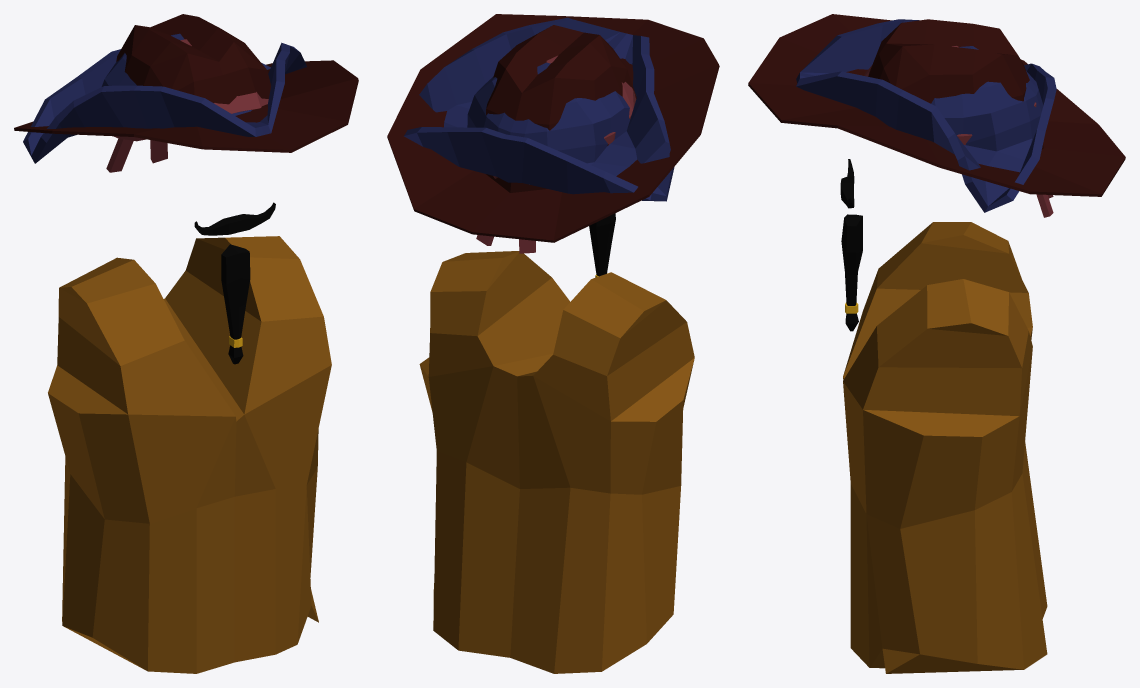
The model's file is pirateking-attachments.fbx.
The picture shows the model from 3 angles, left to right: view 1: azimuth 30°, elevation 25°; view 2: azimuth 150°, elevation 25°; view 3: azimuth 270°, elevation 25°; orthographic projection. The views are drawn at different scales.
Visible parts, largest first — view 1: Chest1, Hat3, Hat1, Beard2, Hat2, Beard1; view 2: Chest1, Hat3, Hat1, Beard2, Hat2; view 3: Chest1, Hat3, Hat1, Beard2.
Part boxes in pixels (<box>): Chest1: <box>48,236,331,673</box>; Hat3: <box>14,14,358,152</box>; Hat1: <box>23,33,306,163</box>; Beard2: <box>221,244,250,364</box>; Hat2: <box>106,39,268,172</box>; Beard1: <box>194,202,275,235</box>; Chest1: <box>419,251,694,673</box>; Hat3: <box>387,14,719,242</box>; Hat1: <box>404,17,674,201</box>; Beard2: <box>589,213,615,277</box>; Hat2: <box>476,55,636,253</box>; Chest1: <box>843,222,1047,673</box>; Hat3: <box>748,14,1125,196</box>; Hat1: <box>796,19,1056,212</box>; Beard2: <box>841,214,862,331</box>.
Bounding box in the file's own units: 36.62 × 74 × 42.11.
